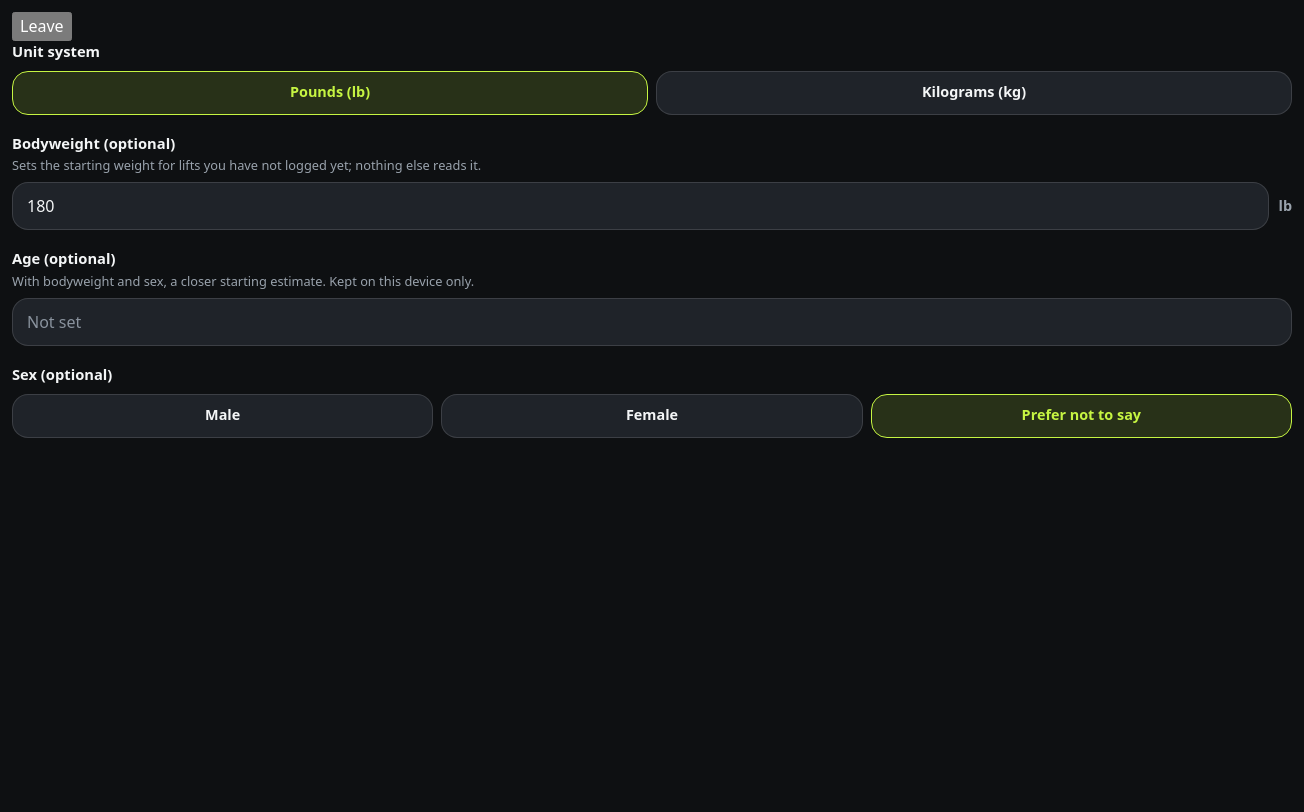
UnitsEditor after the review of item 40 › keeps the bodyweight the field had while it asks after a units switch, never none
This screenshot has width=1304, height=812.
Click the radio button labelled "Kilograms (kg)" at (974, 92), box [656,70,1292,114]
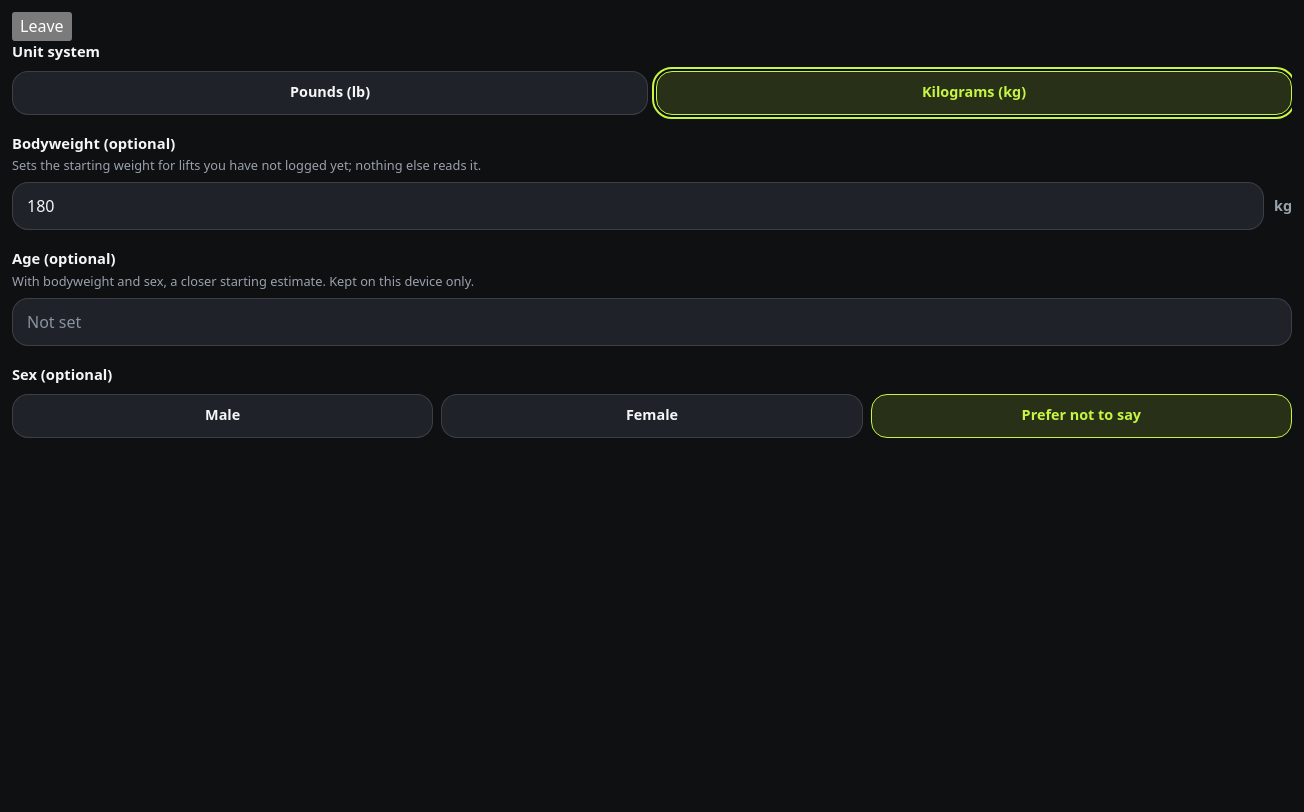
Type "0" into the number field labelled "Bodyweight (optional)" at (638, 206), box [12,182,1264,230]
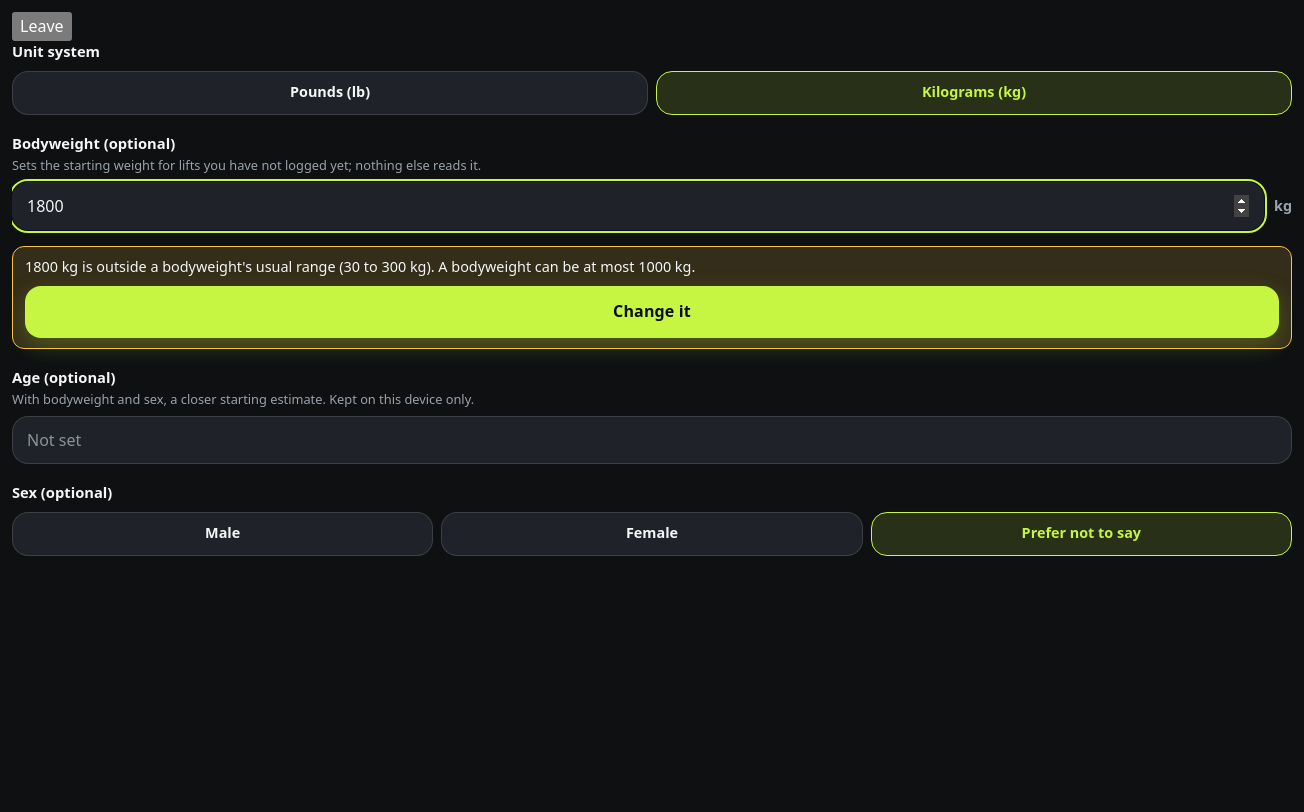
Now the message shows "1800 kg", box [25,257,435,276]
